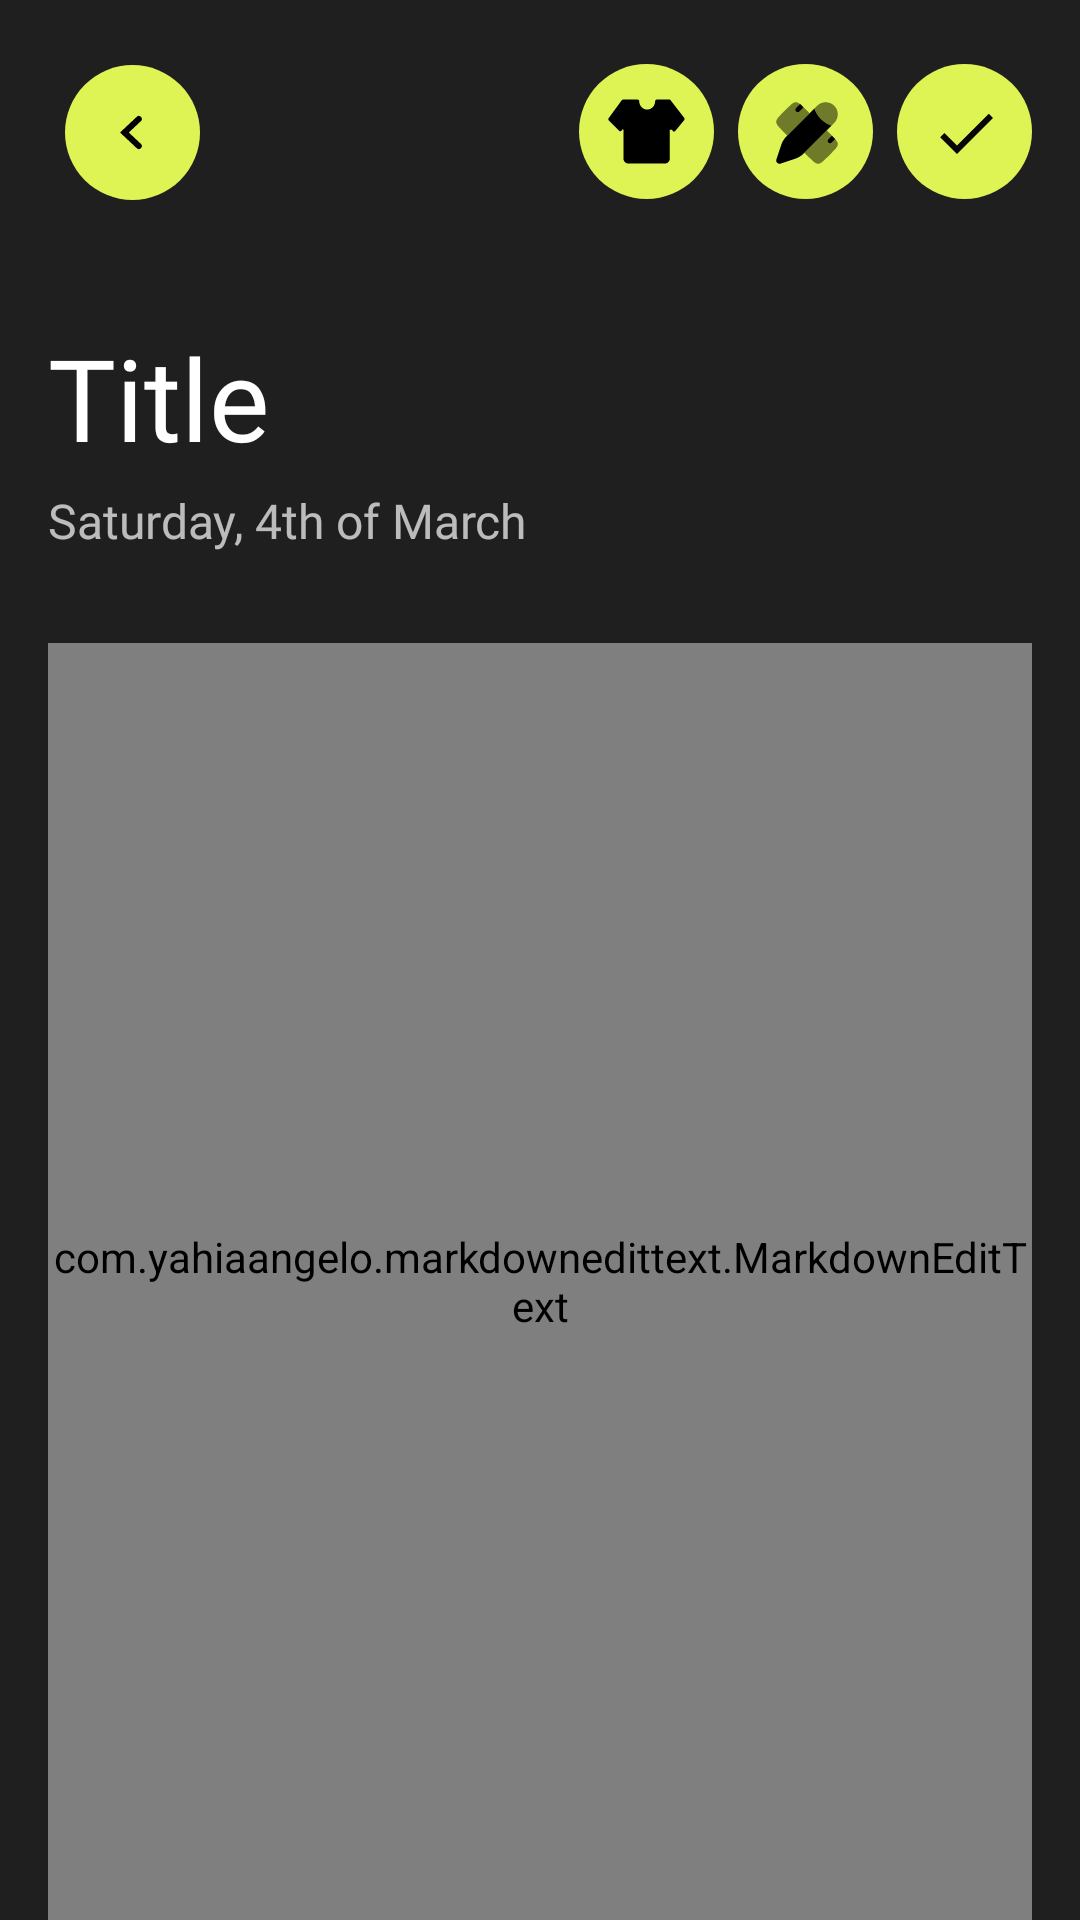

Where icons sit on this 1080x1920 app screen, as [left=x1, top=y1, right=x2, bottom=y2]:
done: [left=897, top=64, right=1032, bottom=199]
style bar: [left=738, top=64, right=873, bottom=199]
theme: [left=579, top=64, right=714, bottom=199]
